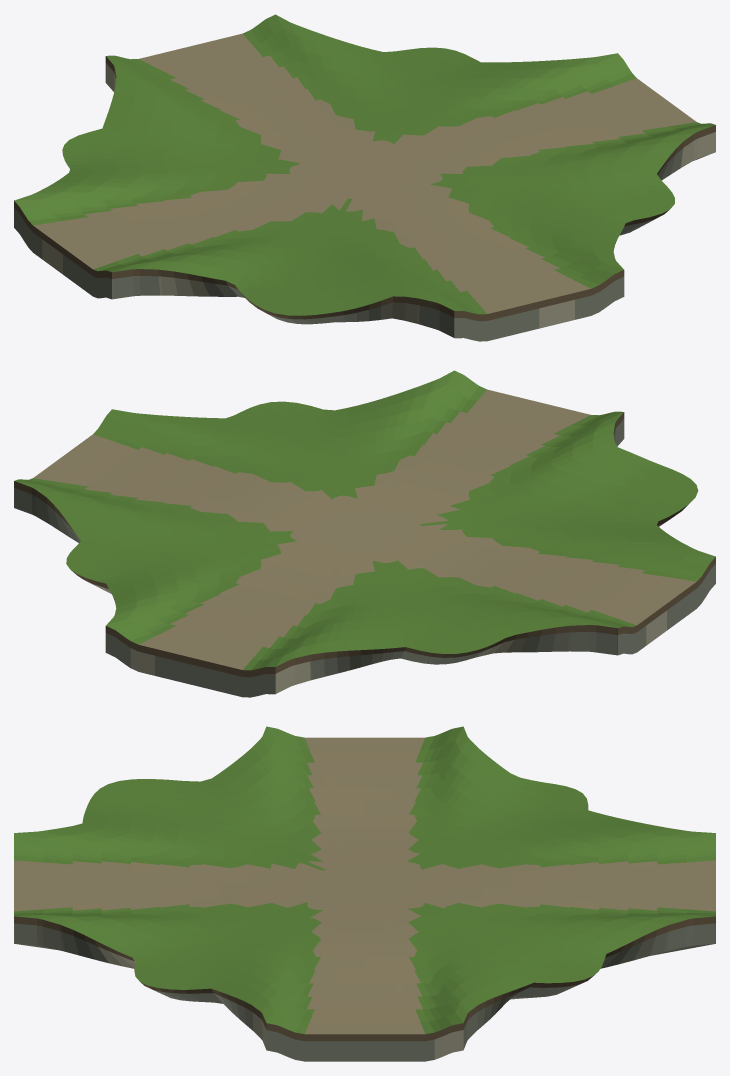
Rendered from path_crossroads_copse_structure.fbx.
3 renders of one model, top to bottom at view 1: azimuth 30°, elevation 25°; view 2: azimuth 150°, elevation 25°; view 3: azimuth 270°, elevation 25°, orthographic.
Parts seen in each view (by area): view 1: chunk_path_crossroads_copse; view 2: chunk_path_crossroads_copse; view 3: chunk_path_crossroads_copse.
Boxes of the visible parts, x1=… form: chunk_path_crossroads_copse: x1=14, y1=14, x2=715, y2=341; chunk_path_crossroads_copse: x1=14, y1=370, x2=715, y2=697; chunk_path_crossroads_copse: x1=14, y1=726, x2=715, y2=1061.
Size of the model in its own units: 256 by 45.5 by 256.
